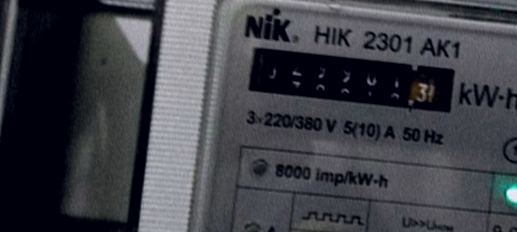0: (362, 62, 379, 89), (261, 58, 279, 81)
1: (387, 66, 402, 90)
2: (287, 58, 305, 79)
3: (413, 80, 428, 103)
9: (337, 62, 354, 85), (312, 59, 327, 82)
screen: (233, 35, 466, 124)
